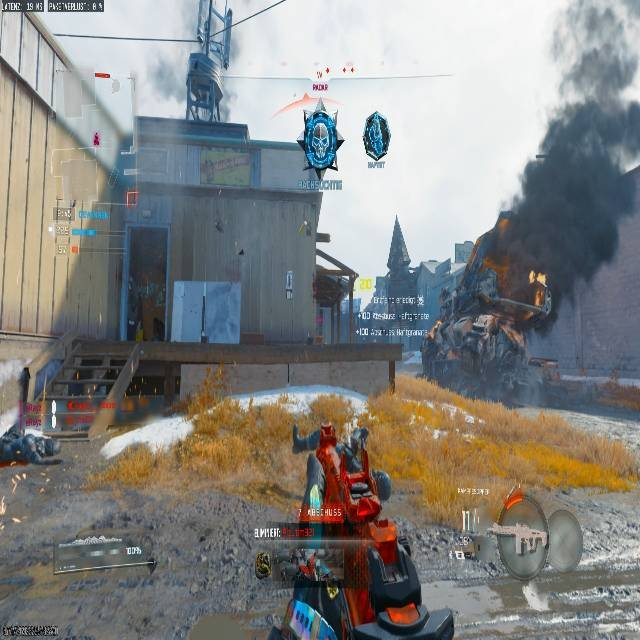head: (37, 436, 60, 457)
